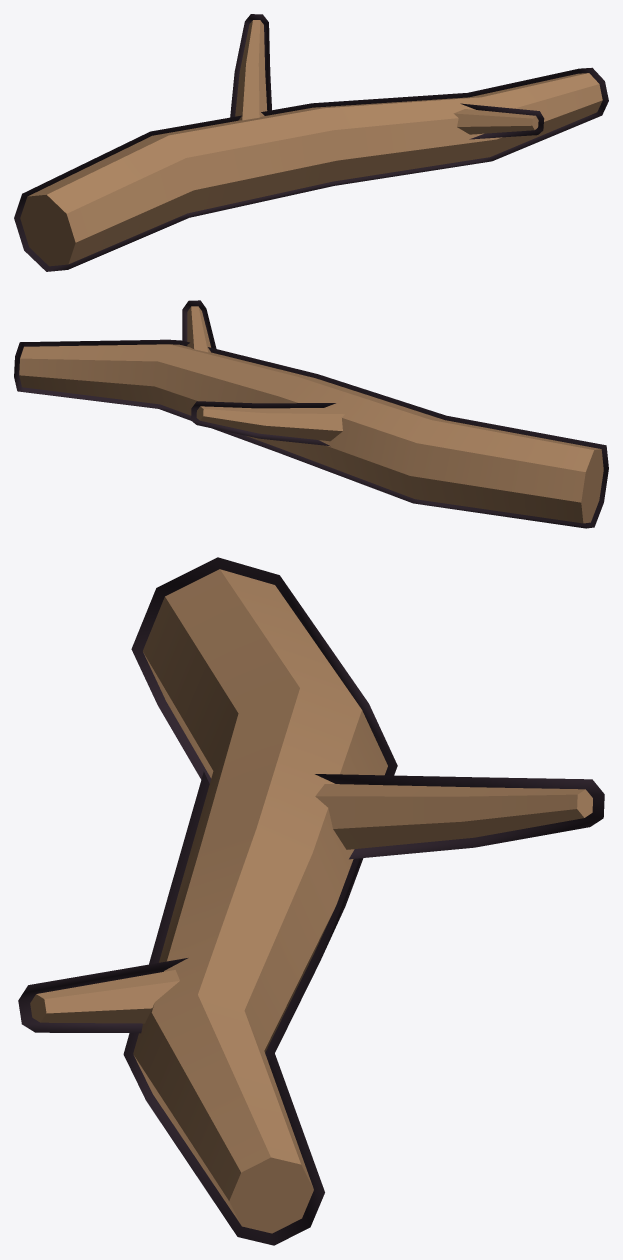
File: SM_Island_Driftwood.fbx
3 renders of one model, top to bottom at view 1: azimuth 30°, elevation 25°; view 2: azimuth 150°, elevation 25°; view 3: azimuth 270°, elevation 25°, orthographic. The views are drawn at different scales.
Visible parts, largest first — view 1: SM_Island_Driftwood, SM_Island_Driftwood_Outline; view 2: SM_Island_Driftwood, SM_Island_Driftwood_Outline; view 3: SM_Island_Driftwood, SM_Island_Driftwood_Outline.
Boxes of the visible parts, x1,y1,x2,y2 form: SM_Island_Driftwood: (20,20,602,266); SM_Island_Driftwood_Outline: (14,14,608,271); SM_Island_Driftwood: (19,306,603,523); SM_Island_Driftwood_Outline: (14,300,608,528); SM_Island_Driftwood: (30,569,592,1233); SM_Island_Driftwood_Outline: (18,557,604,1245).
Bounding box in the file's own units: 1.82 × 0.3545 × 0.8045.
2 materials, 1 textured.
